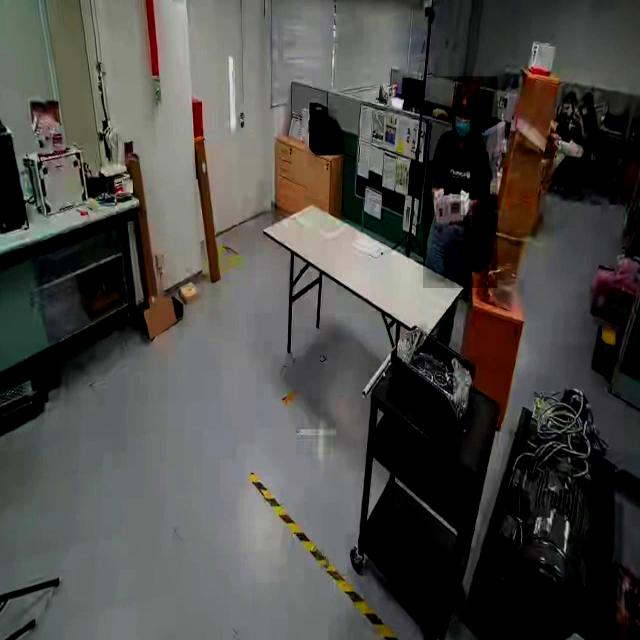face_mask: (452, 104, 474, 142)
hand_glove: (432, 187, 444, 220), (461, 191, 473, 216)
head_nohelmet: (453, 82, 475, 103)
person: (423, 76, 498, 289)
